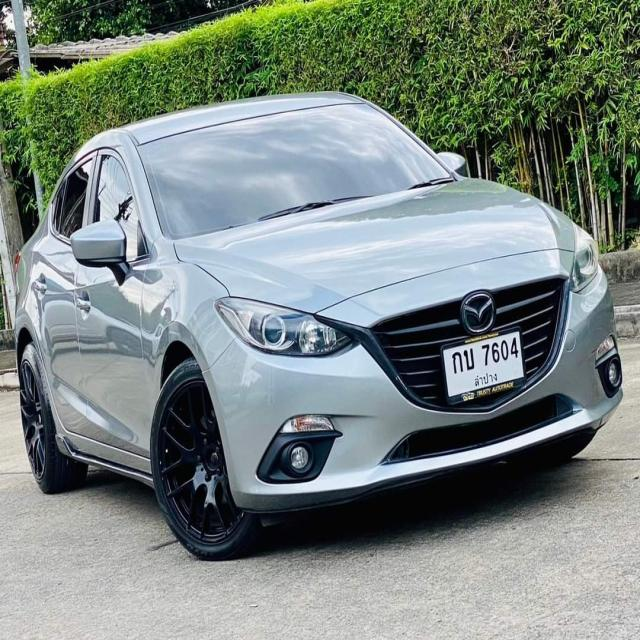license_plate: (438, 328, 528, 406)
